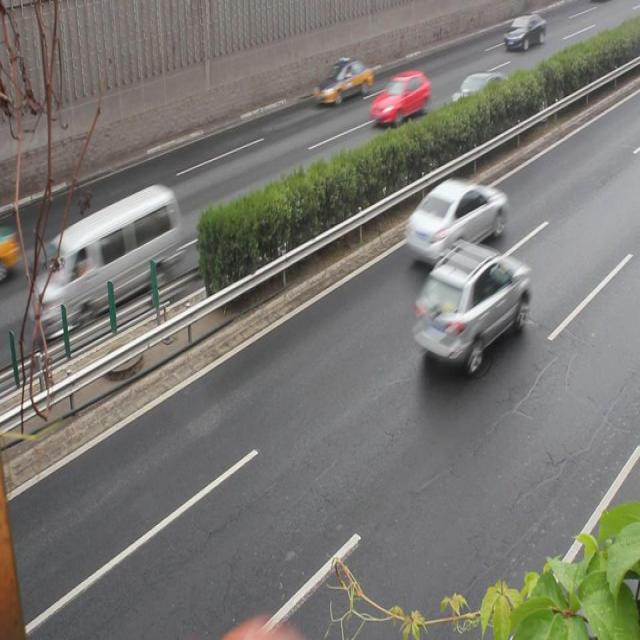car: (408, 243, 528, 366), (402, 176, 505, 266), (448, 71, 508, 132), (369, 70, 428, 127), (316, 62, 372, 103), (504, 15, 543, 51)
truck: (40, 183, 179, 333)
